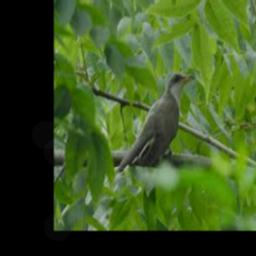Cuckoo: (117, 72, 194, 172)
